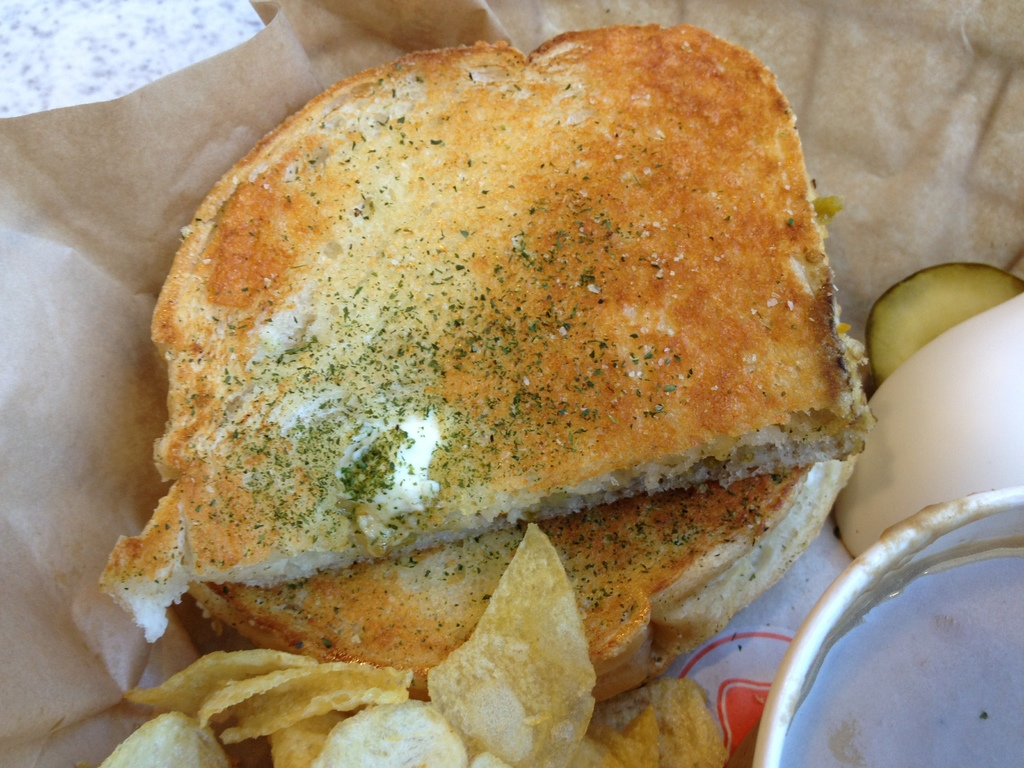sandwich: (102, 20, 877, 704)
